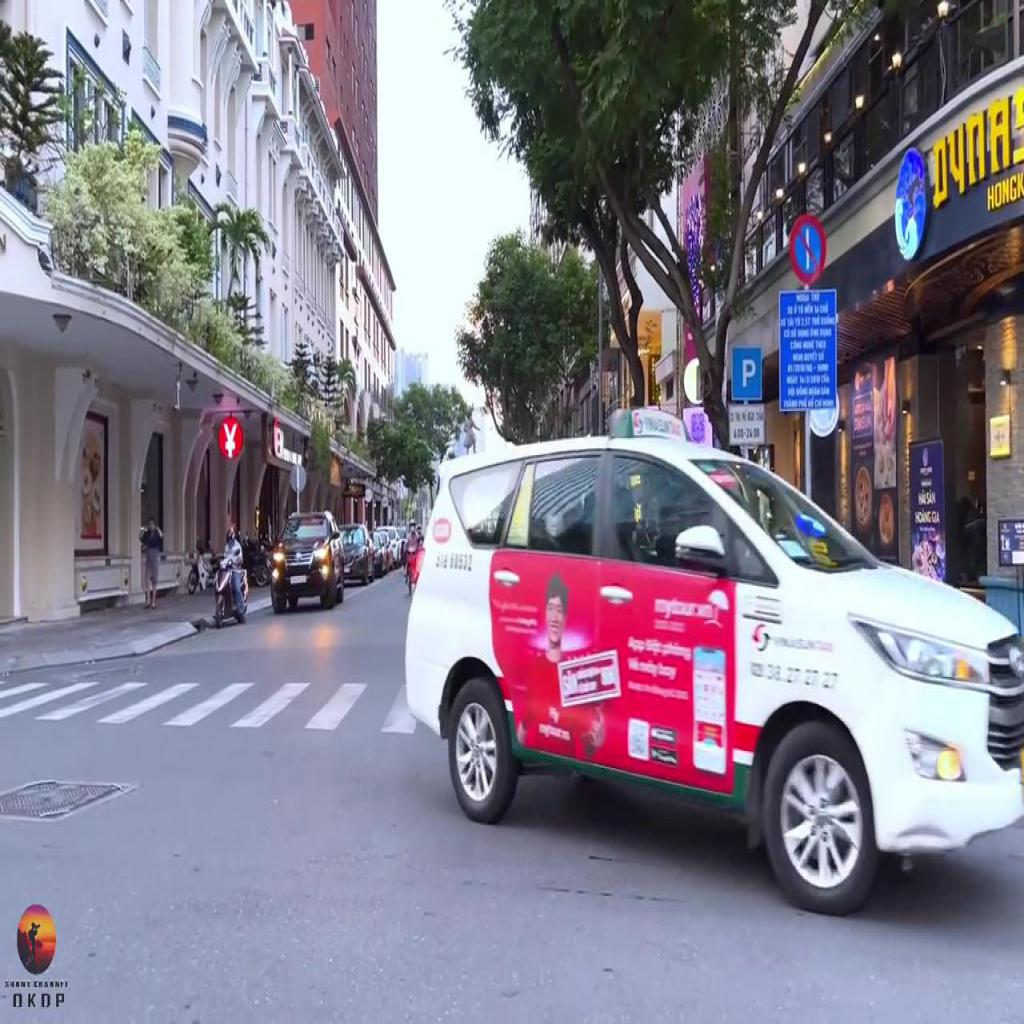cam_do_xe: (789, 215, 827, 283)
khac: (731, 347, 762, 400), (730, 407, 764, 445)
